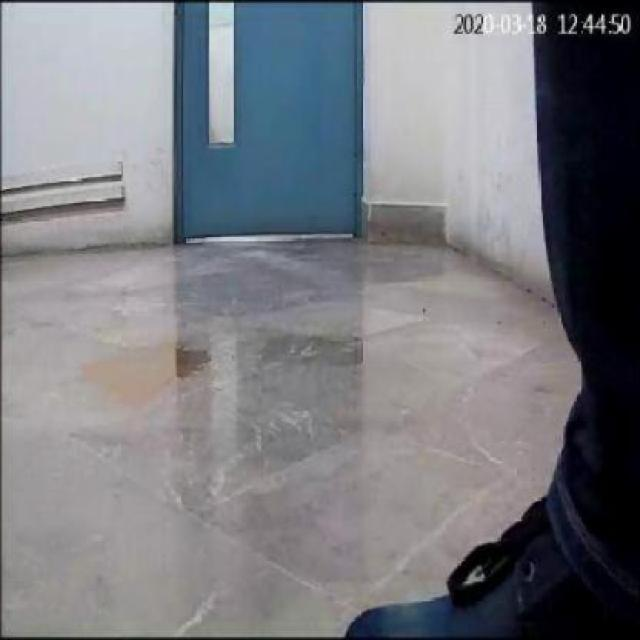spillage: (85, 346, 211, 401)
